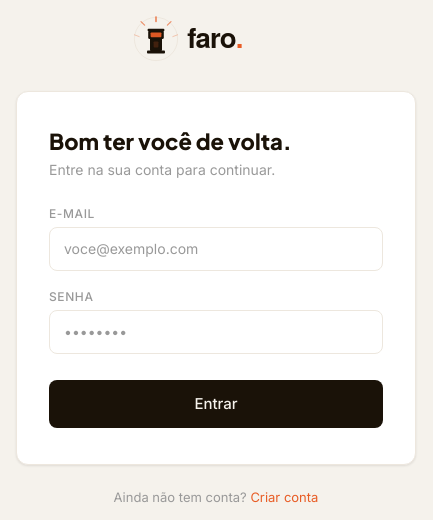
Test: LoginPage › desabilita o botão enquanto o login está em andamento
Type "joao@test.com" into the field labelled "E-mail" at (216, 249), box [49, 227, 383, 271]
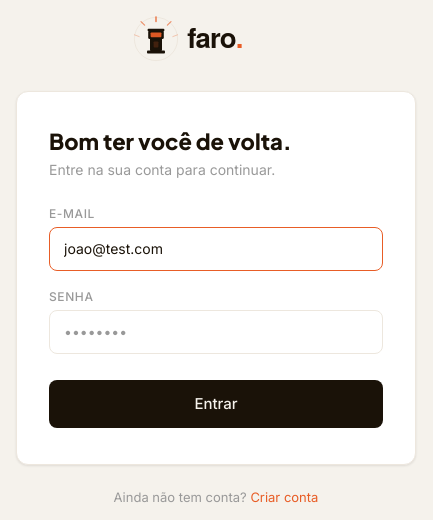
Type "senha123" into the password field labelled "Senha" at (216, 332), box [49, 310, 383, 354]
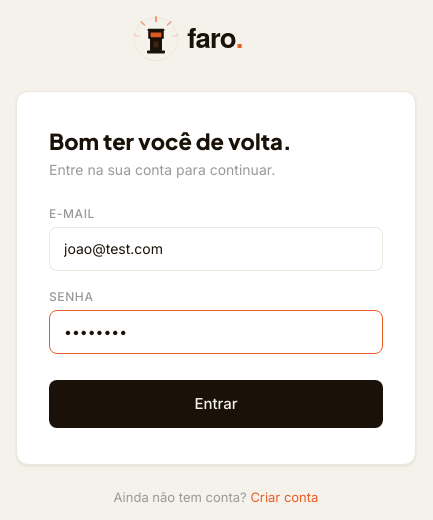
Click the button "Entrar" at (216, 404), box [49, 380, 383, 428]
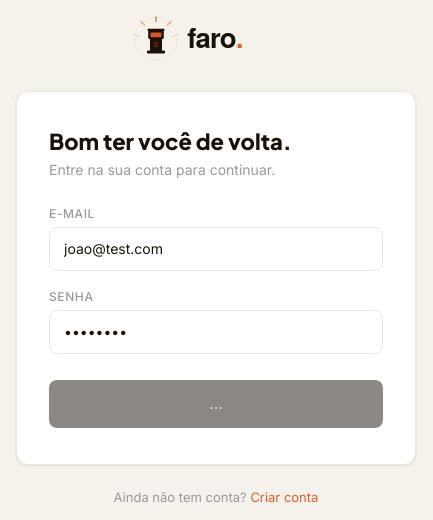
Expected: the button is disabled, [49, 380, 383, 428]
